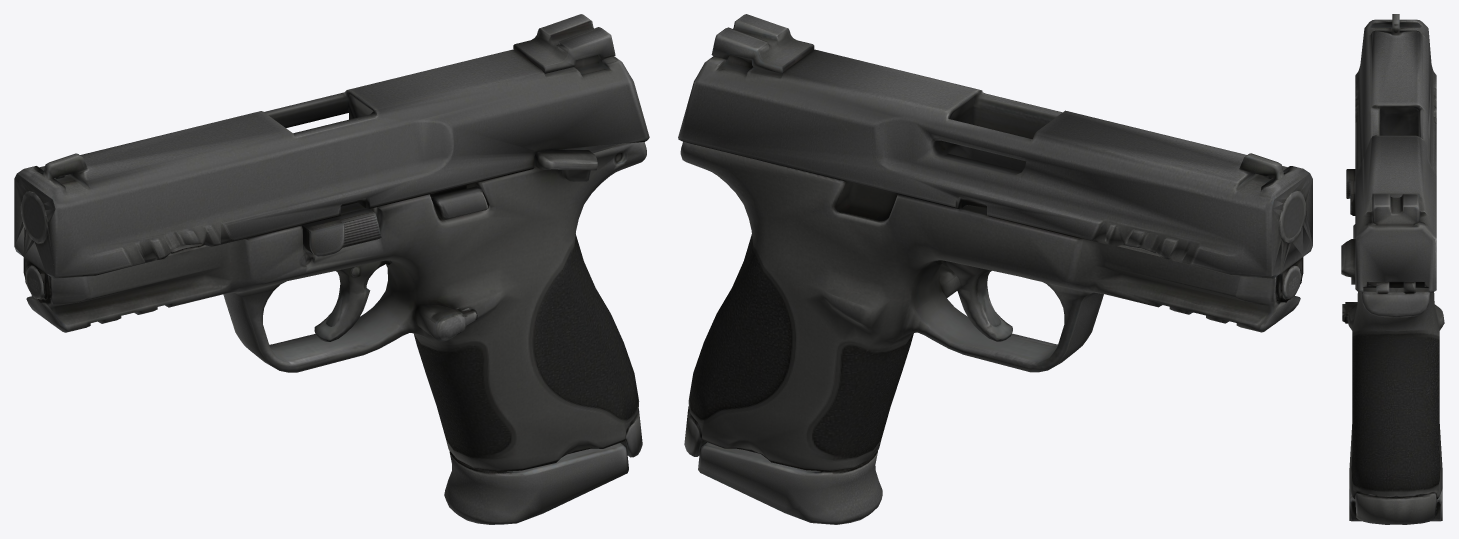
Rendered from pistol+3d+model.glb.
3 views of the same model, side by side, from view 1: azimuth 30°, elevation 25°; view 2: azimuth 150°, elevation 25°; view 3: azimuth 270°, elevation 25° (orthographic). The views are drawn at different scales.
Visible parts, largest first — view 1: tripo_part_0, tripo_part_1, tripo_part_3, tripo_part_6, tripo_part_9, tripo_part_7, tripo_part_8, tripo_part_11, tripo_part_10, tripo_part_2; view 2: tripo_part_0, tripo_part_1, tripo_part_3, tripo_part_6, tripo_part_7, tripo_part_2; view 3: tripo_part_1, tripo_part_0, tripo_part_11, tripo_part_3, tripo_part_9, tripo_part_19, tripo_part_8.
Part boxes in pixels (bbox=[...]): tripo_part_0: bbox=[26, 142, 646, 471]; tripo_part_1: bbox=[14, 14, 649, 278]; tripo_part_3: bbox=[444, 442, 628, 524]; tripo_part_6: bbox=[14, 174, 55, 276]; tripo_part_9: bbox=[301, 208, 381, 256]; tripo_part_7: bbox=[314, 260, 391, 341]; tripo_part_8: bbox=[414, 304, 477, 341]; tripo_part_11: bbox=[534, 149, 597, 182]; tripo_part_10: bbox=[431, 186, 489, 219]; tripo_part_2: bbox=[23, 257, 50, 302]; tripo_part_0: bbox=[680, 142, 1300, 471]; tripo_part_1: bbox=[678, 14, 1312, 278]; tripo_part_3: bbox=[698, 442, 882, 524]; tripo_part_6: bbox=[1271, 173, 1312, 275]; tripo_part_7: bbox=[935, 260, 1012, 341]; tripo_part_2: bbox=[1276, 257, 1303, 302]; tripo_part_1: bbox=[1355, 14, 1436, 292]; tripo_part_0: bbox=[1348, 288, 1444, 524]; tripo_part_11: bbox=[1341, 239, 1355, 284]; tripo_part_3: bbox=[1349, 489, 1442, 521]; tripo_part_9: bbox=[1346, 169, 1355, 215]; tripo_part_19: bbox=[1368, 282, 1389, 292]; tripo_part_8: bbox=[1342, 302, 1357, 323].
Size of the model in its own units: 1 by 0.7299 by 0.2016.
1 material, 1 textured.
